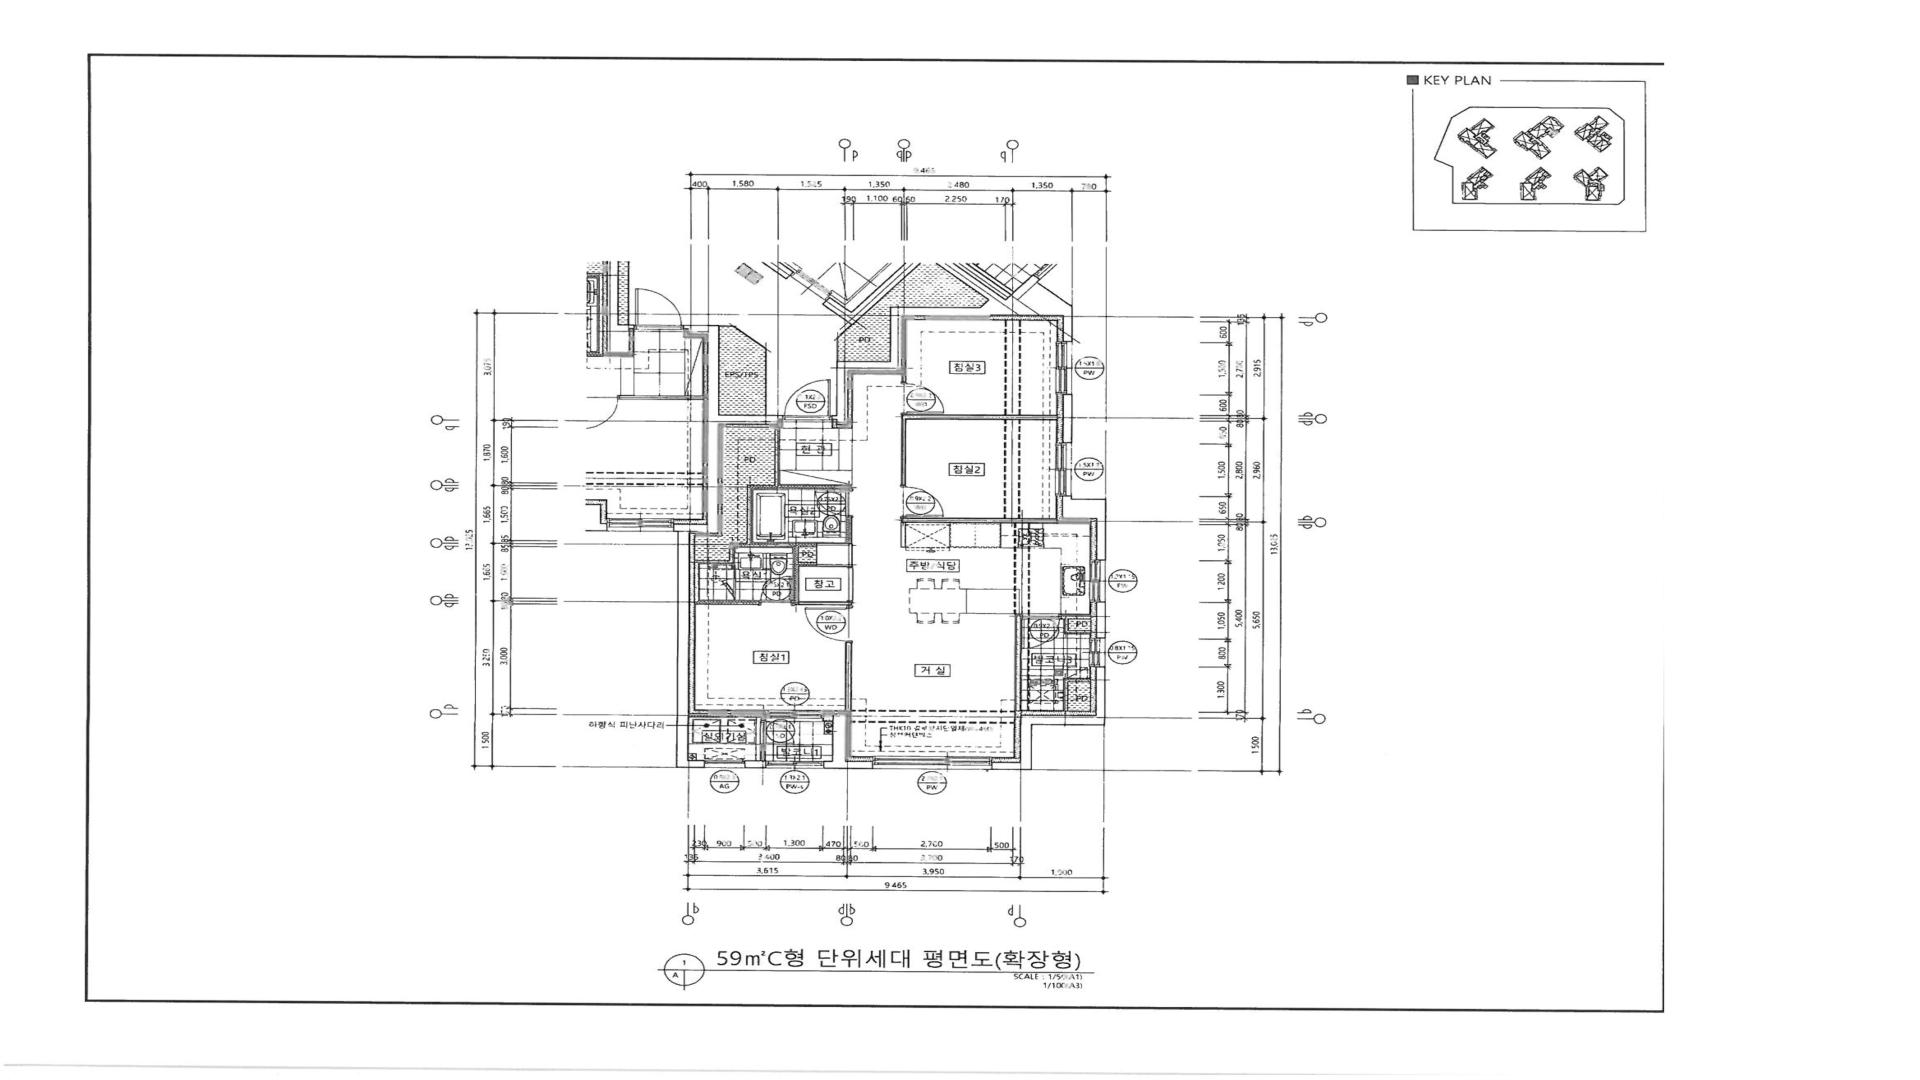door: (783, 380, 832, 421), (804, 605, 852, 642), (1022, 613, 1062, 649), (901, 382, 944, 414), (901, 487, 944, 517), (760, 576, 794, 605), (818, 491, 855, 517), (760, 723, 795, 745), (721, 579, 736, 600)
wall: (673, 324, 783, 767), (832, 262, 1073, 425), (695, 427, 852, 605), (992, 667, 1105, 770), (901, 414, 1058, 487), (822, 262, 922, 326), (901, 518, 1058, 547), (720, 324, 767, 414), (1062, 496, 1106, 560), (824, 713, 873, 769), (609, 261, 634, 353), (1063, 678, 1091, 711), (1014, 615, 1022, 711), (690, 713, 765, 723), (1062, 613, 1091, 634), (761, 261, 794, 280), (836, 324, 852, 361), (845, 642, 852, 711), (1063, 394, 1072, 443), (1096, 601, 1106, 638), (745, 760, 766, 769), (760, 745, 766, 760), (823, 713, 832, 721), (733, 564, 736, 579), (902, 373, 906, 382), (816, 547, 818, 563)
window: (873, 756, 992, 770), (790, 269, 833, 301), (1055, 443, 1072, 496), (1056, 342, 1072, 394), (1089, 560, 1106, 601), (765, 709, 823, 721), (1089, 638, 1105, 667), (766, 761, 823, 769), (705, 760, 745, 767)
